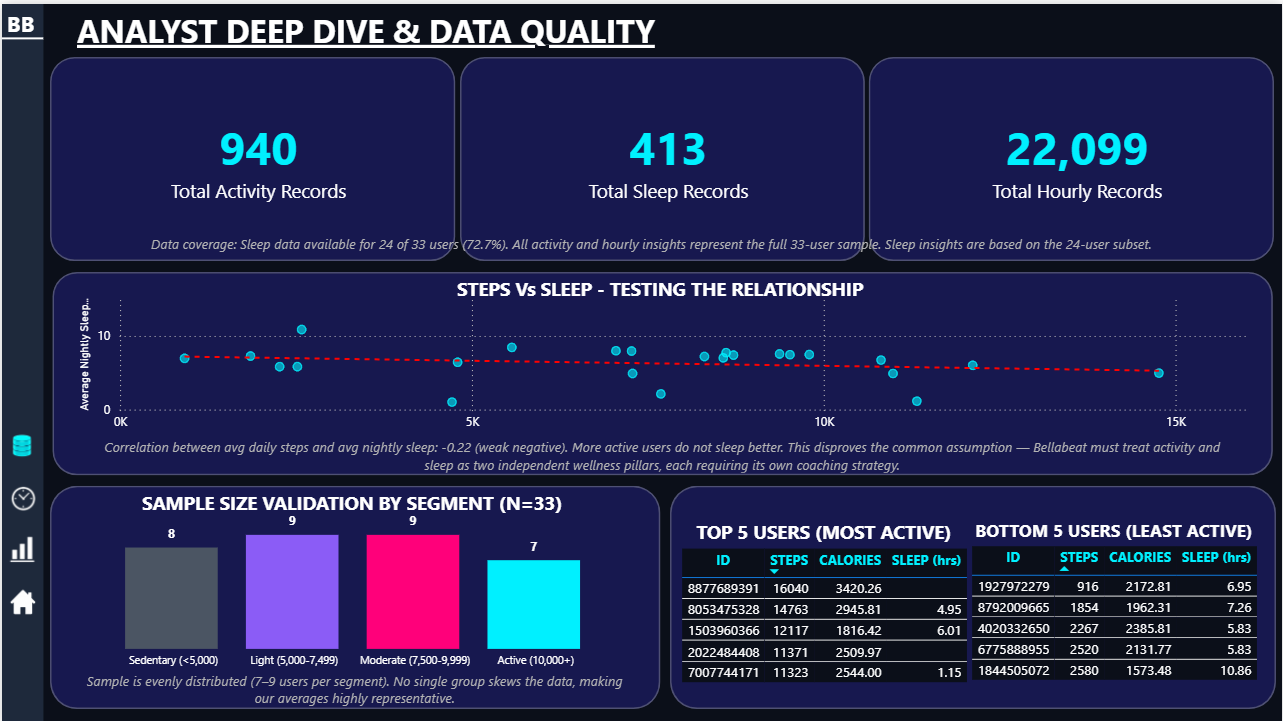

The page's visual inventory and layout, read from the dashboard file:
{"tool":"powerbi","page":{"name":"Data Quality","canvas":[1280,720],"ordinal":3},"visuals":[{"type":"shape","box":[0,0,41.4,720],"z":0,"group":"g2"},{"type":"textbox","box":[0,0,42.5,47.5],"z":0,"group":"g3"},{"type":"group","id":"g1","title":"Group 1","box":[47,0,1227.3,708],"z":0},{"type":"textbox","title":"Heading","box":[69.6,0,649,54],"z":0,"group":"g1"},{"type":"shape","box":[47,52.4,406.3,205.1],"z":0,"group":"g4"},{"type":"shape","box":[667.3,481.6,607,224.4],"z":0,"group":"g5"},{"type":"group","id":"g2","title":"Group 7","box":[0,0,41.4,720],"z":1000},{"type":"shape","box":[0,16.2,41.2,36.2],"z":1000,"group":"g3"},{"type":"shape","box":[866,52.4,406.3,205.1],"z":1000,"group":"g4"},{"type":"shape","box":[47.2,481.6,611.4,224.4],"z":1000,"group":"g1"},{"type":"tableEx","title":"TOP 5 USERS (MOST ACTIVE)","fields":{"Values":["Users.Id","_Total_measures.Average Daily Steps","Avg(Activity.Calories)","Avg(Sleep.SleepHours)"]},"box":[674.1,515,296,170],"z":1000,"group":"g5"},{"type":"actionButton","box":[0,574,41,49],"z":1000,"group":"g2"},{"type":"group","id":"g3","title":"Group 2","box":[0,0,42.5,52.5],"z":2000},{"type":"group","id":"g4","title":"KPI Cards","box":[47,52.4,1225,205.2],"z":2000,"group":"g1"},{"type":"shape","box":[456.5,52.4,405.9,205.2],"z":2000,"group":"g4"},{"type":"tableEx","title":"BOTTOM 5 USERS (LEAST ACTIVE)","fields":{"Values":["Users.Id","_Total_measures.Average Daily Steps","Avg(Activity.Calories)","Avg(Sleep.SleepHours)"]},"box":[964,515.1,296.2,170],"z":2000,"group":"g5"},{"type":"actionButton","box":[0,521.7,41.4,48.6],"z":2000,"group":"g2"},{"type":"card","fields":{"Values":["_Total_measures.Total Activity Records"]},"box":[73.1,65.7,366,177.2],"z":3000,"group":"g1"},{"type":"actionButton","box":[0,469.4,41.4,48.6],"z":3000,"group":"g2"},{"type":"shape","box":[50.1,267.3,1221.4,204.4],"z":4000,"group":"g1"},{"type":"actionButton","box":[0,417.1,41.4,48.6],"z":4000,"group":"g2"},{"type":"card","fields":{"Values":["_Total_measures.Total Sleep Records"]},"box":[483.5,65.7,366,177.2],"z":5000,"group":"g1"},{"type":"card","fields":{"Values":["_Total_measures.Total Hourly Records"]},"box":[892.6,65.7,366,177.2],"z":6000,"group":"g1"},{"type":"scatterChart","fields":{"Category":["Users.Id"],"X":["_Total_measures.Average Daily Steps"],"Y":["_Total_measures.Average Sleep Hours"]},"box":[72.6,281.6,1186.6,154.5],"z":7000,"group":"g1"},{"type":"textbox","box":[449.1,267.3,422,35.7],"z":8000,"group":"g1"},{"type":"clusteredColumnChart","fields":{"Category":["Users.Segment"],"Y":["CountNonNull(Users.Id)"]},"box":[69.7,499.3,565.6,174.3],"z":9000,"group":"g1"},{"type":"textbox","box":[134.8,483.4,436.3,35.7],"z":10000,"group":"g1"},{"type":"textbox","box":[92.5,428.9,1135.5,45],"z":11000,"group":"g1"},{"type":"textbox","box":[69.7,662.7,565.6,45.3],"z":12000,"group":"g1"},{"type":"textbox","box":[117,226.2,1063.8,33.8],"z":13000,"group":"g1"},{"type":"group","id":"g5","title":"Group 2","box":[667.3,481.6,607,224.4],"z":14000,"group":"g1"}]}

Visuals, with their boxes on the page's 1280x720 design canvas (x1, y1, x2, y2). These are canvas units, not pixel positions in the 1283x721 screenshot, which may show the page scaled, cropped or inside an application window:
shape: [x1=0, y1=0, x2=41, y2=720]
textbox: [x1=0, y1=0, x2=42, y2=48]
"Group 1" group: [x1=47, y1=0, x2=1274, y2=708]
"Heading" textbox: [x1=70, y1=0, x2=719, y2=54]
shape: [x1=47, y1=52, x2=453, y2=258]
shape: [x1=667, y1=482, x2=1274, y2=706]
"Group 7" group: [x1=0, y1=0, x2=41, y2=720]
shape: [x1=0, y1=16, x2=41, y2=52]
shape: [x1=866, y1=52, x2=1272, y2=258]
shape: [x1=47, y1=482, x2=659, y2=706]
"TOP 5 USERS (MOST ACTIVE)" tableEx: [x1=674, y1=515, x2=970, y2=685]
actionButton: [x1=0, y1=574, x2=41, y2=623]
"Group 2" group: [x1=0, y1=0, x2=42, y2=52]
"KPI Cards" group: [x1=47, y1=52, x2=1272, y2=258]
shape: [x1=456, y1=52, x2=862, y2=258]
"BOTTOM 5 USERS (LEAST ACTIVE)" tableEx: [x1=964, y1=515, x2=1260, y2=685]
actionButton: [x1=0, y1=522, x2=41, y2=570]
card - _Total_measures.Total Activity Records: [x1=73, y1=66, x2=439, y2=243]
actionButton: [x1=0, y1=469, x2=41, y2=518]
shape: [x1=50, y1=267, x2=1272, y2=472]
actionButton: [x1=0, y1=417, x2=41, y2=466]
card - _Total_measures.Total Sleep Records: [x1=484, y1=66, x2=850, y2=243]
card - _Total_measures.Total Hourly Records: [x1=893, y1=66, x2=1259, y2=243]
scatterChart - Users.Id x _Total_measures.Average Daily Steps: [x1=73, y1=282, x2=1259, y2=436]
textbox: [x1=449, y1=267, x2=871, y2=303]
clusteredColumnChart - Users.Segment x CountNonNull(Users.Id): [x1=70, y1=499, x2=635, y2=674]
textbox: [x1=135, y1=483, x2=571, y2=519]
textbox: [x1=92, y1=429, x2=1228, y2=474]
textbox: [x1=70, y1=663, x2=635, y2=708]
textbox: [x1=117, y1=226, x2=1181, y2=260]
"Group 2" group: [x1=667, y1=482, x2=1274, y2=706]
